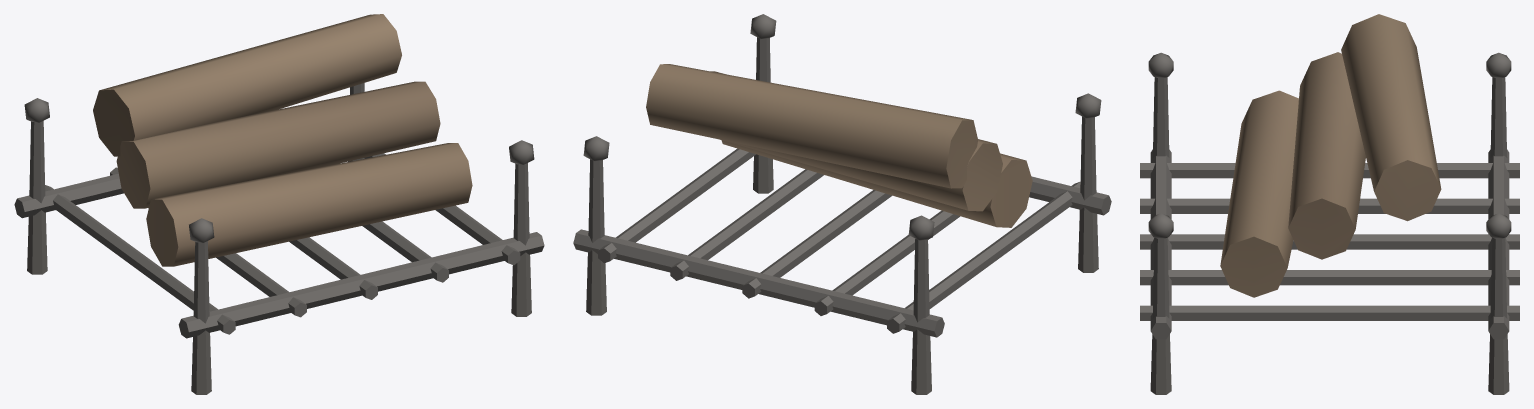
File: fireplace-grate-v01.glb
The picture shows the model from 3 angles, left to right: view 1: azimuth 30°, elevation 25°; view 2: azimuth 150°, elevation 25°; view 3: azimuth 270°, elevation 25°; orthographic projection. The views are drawn at different scales.
Visible parts, largest first — view 1: fireplace-grate; view 2: fireplace-grate; view 3: fireplace-grate.
Boxes of the visible parts, x1,y1,x2,y2 form: fireplace-grate: (14,14,544,394); fireplace-grate: (573,14,1111,394); fireplace-grate: (1140,14,1519,394).
Size of the model in its own units: 1 by 0.59 by 0.9.
